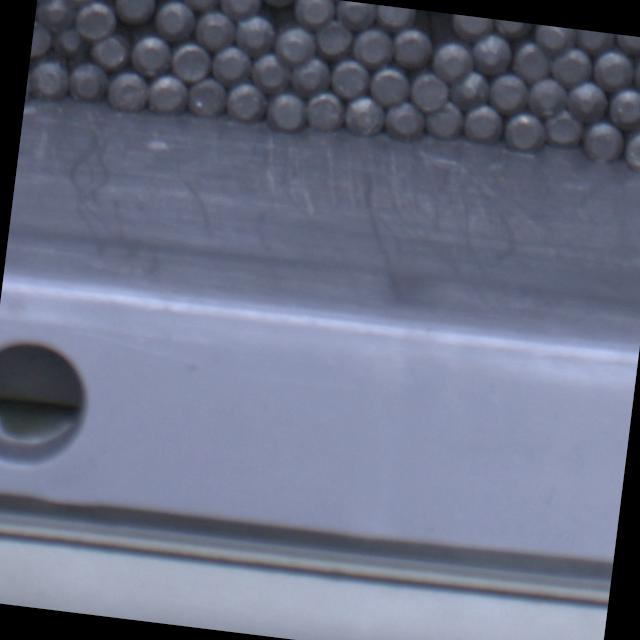tool: (470, 31, 514, 76), (590, 48, 634, 92), (328, 56, 372, 100), (342, 94, 386, 138), (128, 33, 172, 77), (146, 74, 190, 118), (193, 8, 237, 52), (432, 38, 476, 82), (106, 68, 150, 112), (389, 25, 433, 69), (366, 63, 411, 106), (233, 10, 278, 53), (168, 39, 212, 82), (566, 80, 610, 123), (224, 80, 268, 123), (65, 60, 108, 104), (274, 24, 319, 66), (583, 120, 626, 163), (208, 44, 252, 86), (549, 46, 593, 88), (501, 110, 545, 152), (382, 98, 426, 140), (289, 54, 333, 96), (409, 70, 452, 112), (186, 75, 228, 118), (527, 76, 570, 118), (487, 72, 530, 114), (461, 103, 504, 145), (302, 90, 345, 132), (74, 0, 118, 41), (510, 41, 552, 83), (250, 50, 292, 92), (154, 0, 198, 40), (542, 108, 586, 148), (313, 15, 355, 56), (424, 99, 466, 140), (352, 26, 394, 66), (266, 90, 307, 130), (448, 69, 490, 108), (30, 59, 70, 98), (89, 32, 130, 70), (605, 86, 640, 127), (33, 0, 76, 32), (331, 0, 376, 29), (292, 0, 335, 27), (534, 24, 577, 51), (115, 0, 159, 25), (55, 24, 90, 55), (450, 14, 494, 38), (374, 5, 416, 29), (576, 29, 616, 52), (30, 20, 53, 58), (491, 19, 534, 38), (219, 0, 261, 19), (622, 127, 640, 170), (613, 34, 640, 54), (179, 0, 224, 11), (631, 52, 640, 94), (255, 0, 298, 8)
void: (408, 9, 456, 35)
